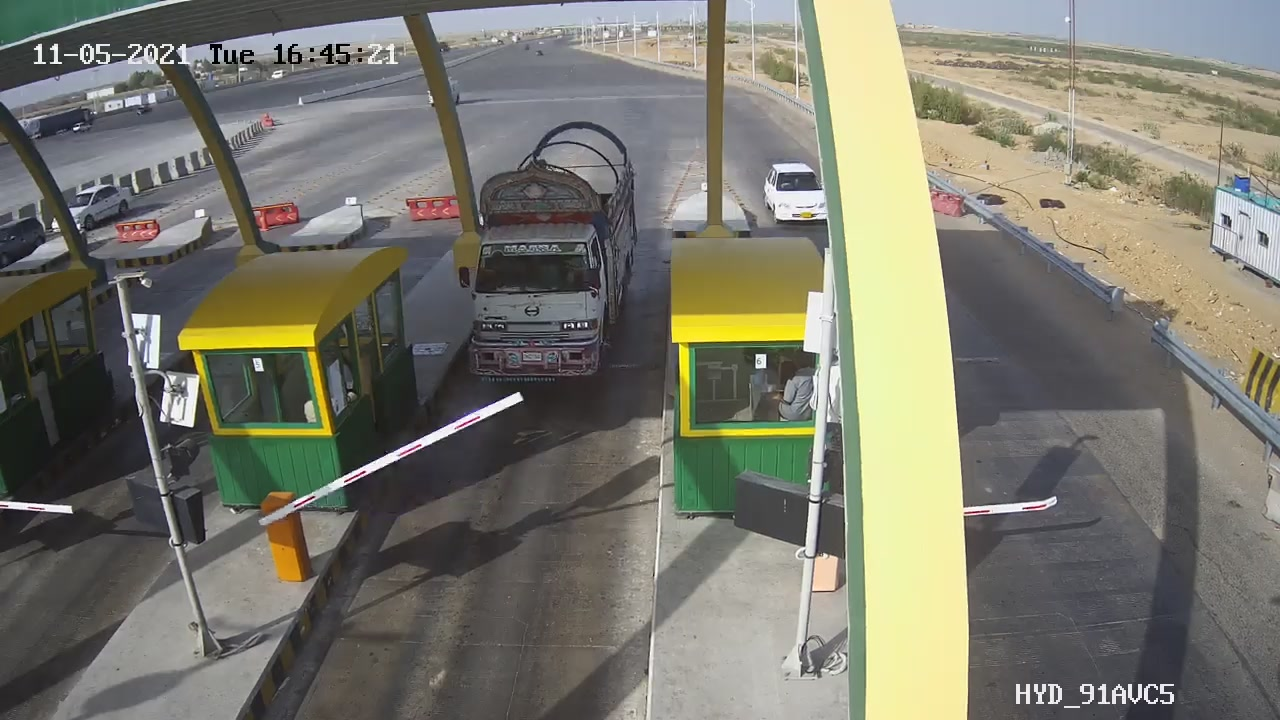F5: (437, 106, 667, 412)
